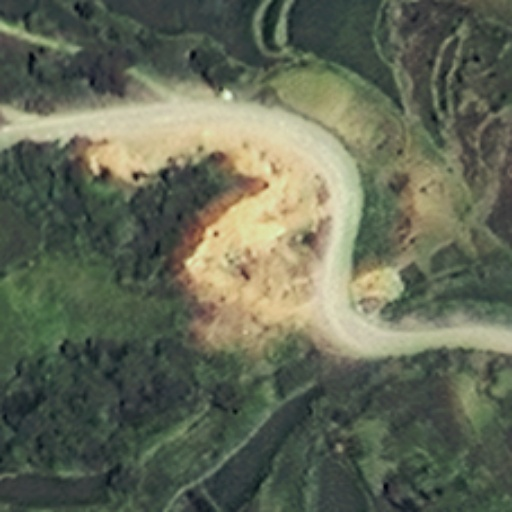landslide: (187, 171, 337, 345)
